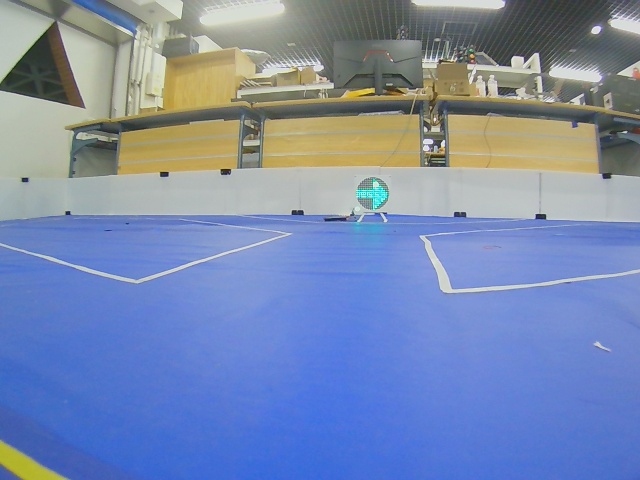right_green: (356, 177, 389, 210)
